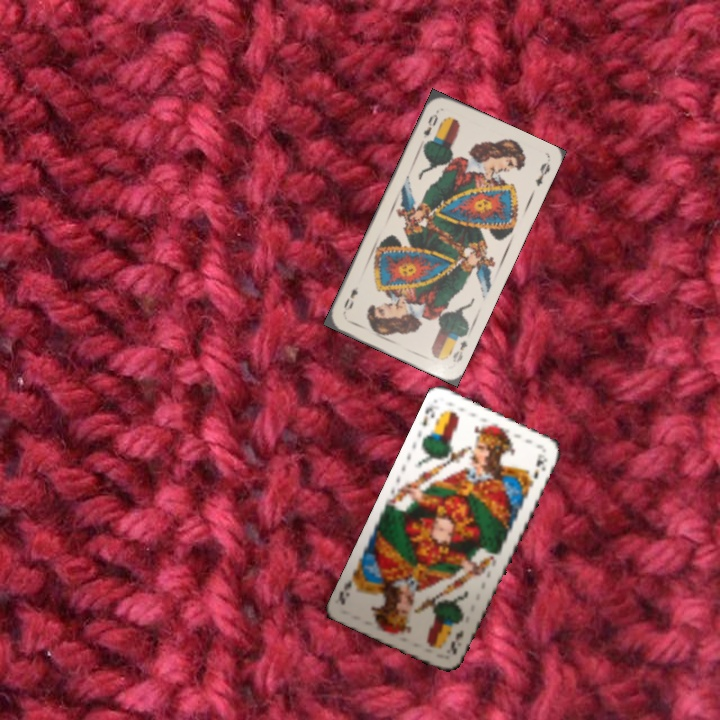EK: (442, 625, 466, 658), (418, 402, 437, 429)
EO: (419, 110, 441, 146), (448, 336, 470, 365)
